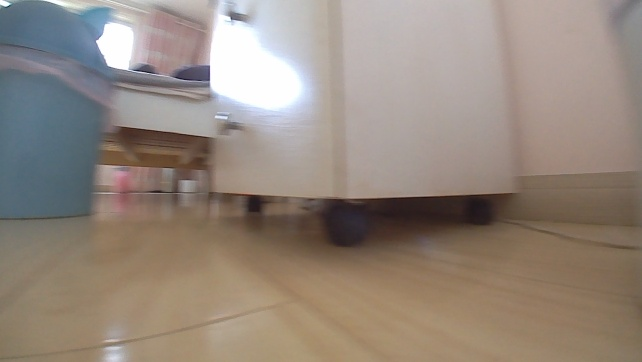wire: (493, 216, 641, 251)
